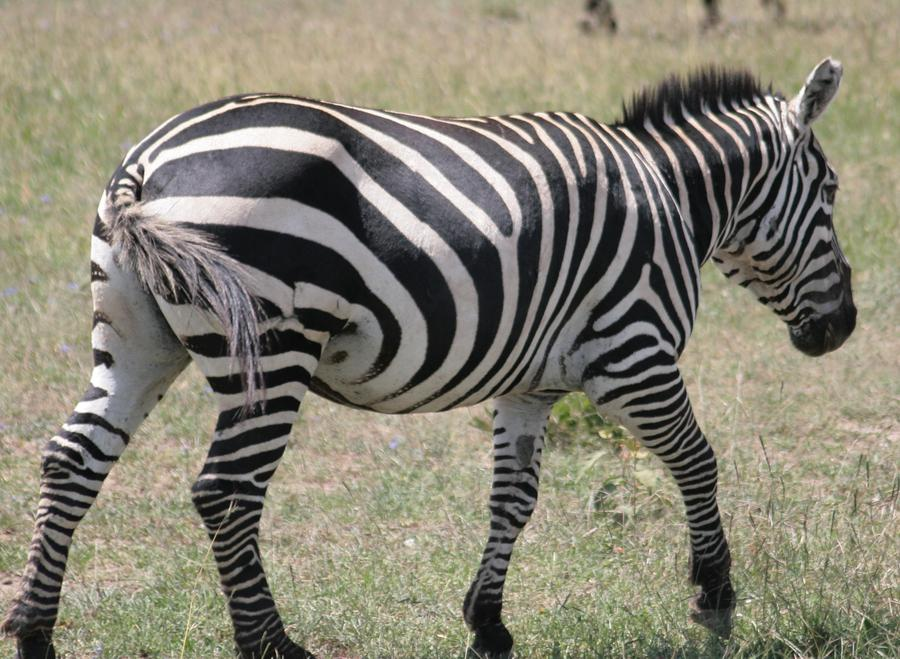zebra_plains: (184, 106, 688, 388)
